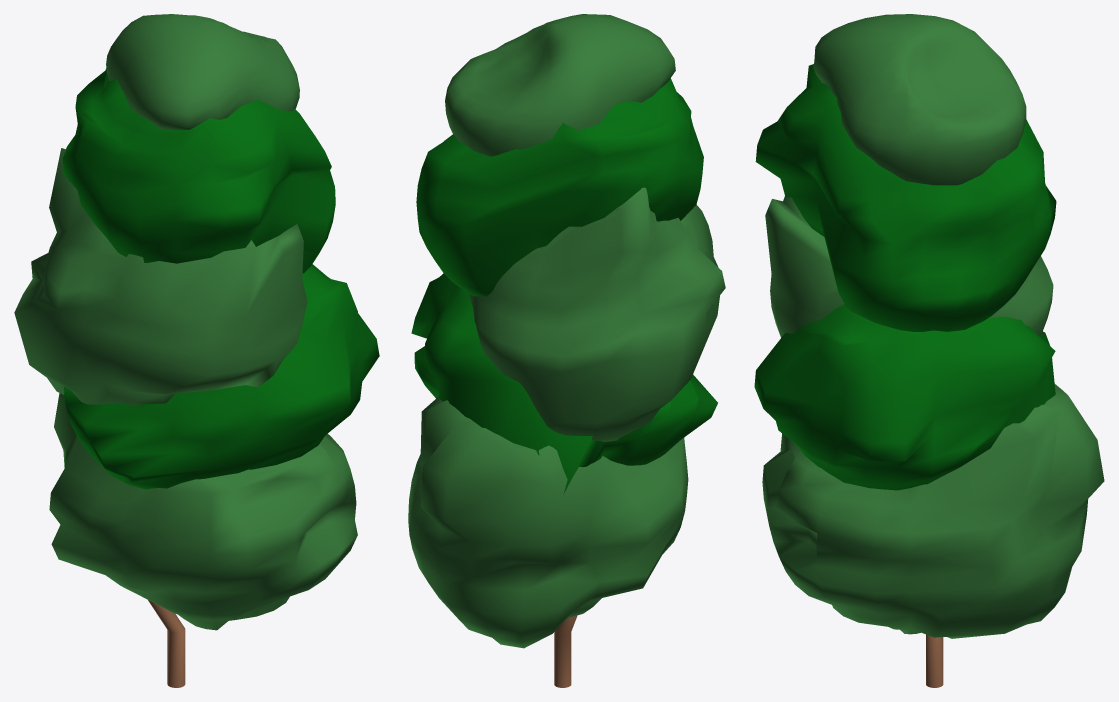
The model's file is Bush01.fbx.
3 views of the same model, side by side, from view 1: azimuth 30°, elevation 25°; view 2: azimuth 150°, elevation 25°; view 3: azimuth 270°, elevation 25° (orthographic). The views are drawn at different scales.
Visible parts, largest first — view 1: group66_pasted__pSphere2; view 2: group66_pasted__pSphere2; view 3: group66_pasted__pSphere2.
Boxes of the visible parts, x1,y1,x2,y2 form: group66_pasted__pSphere2: (14,14,379,687); group66_pasted__pSphere2: (408,14,725,687); group66_pasted__pSphere2: (754,14,1104,687).
Size of the model in its own units: 22.03 by 44.96 by 21.57.
